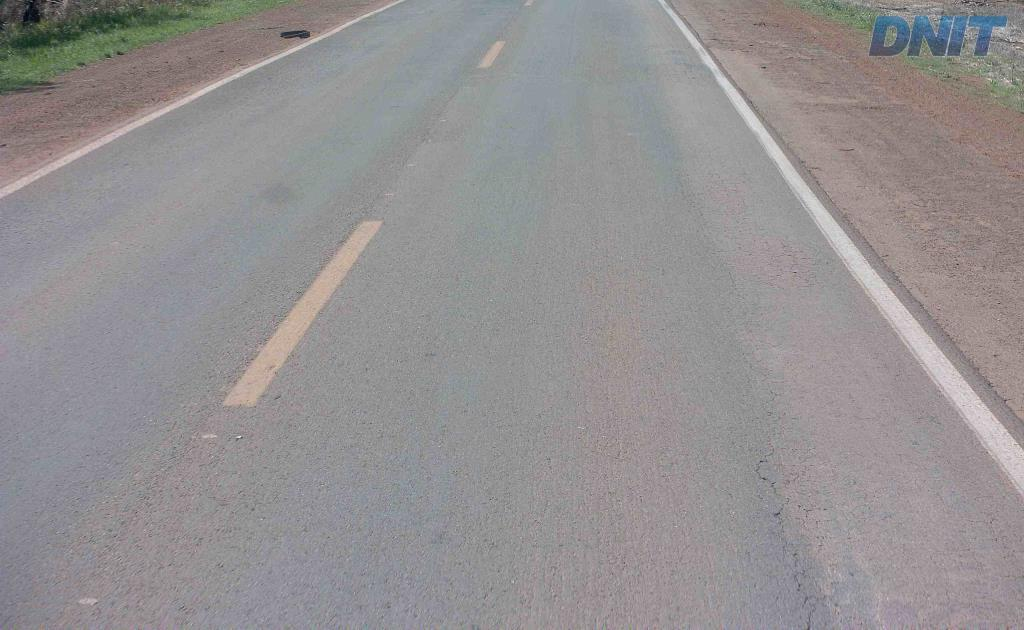crack: (764, 495, 826, 604)
